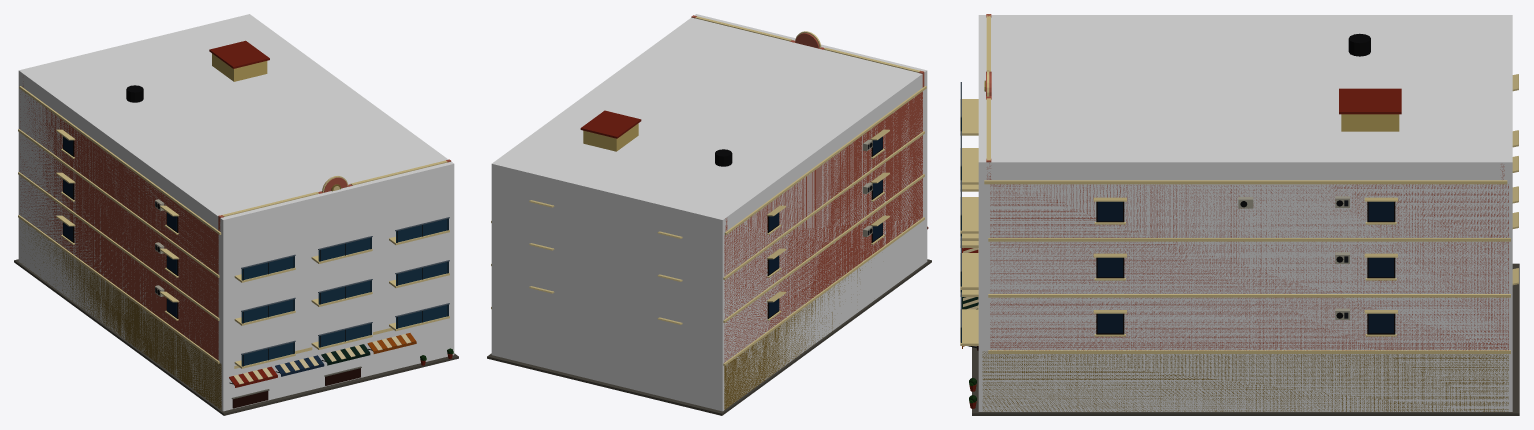
File: CHN_058_apt_with_shops.glb
3 views of the same model, side by side, from view 1: azimuth 30°, elevation 25°; view 2: azimuth 150°, elevation 25°; view 3: azimuth 270°, elevation 25° (orthographic). The views are drawn at different scales.
Parts seen in each view (by area): view 1: COL_Main, LOD0; view 2: COL_Main, LOD0; view 3: COL_Main, LOD0.
Part boxes in pixels (x1=…): COL_Main: x1=18, y1=14, x2=454, y2=411; LOD0: x1=14, y1=40, x2=458, y2=415; COL_Main: x1=491, y1=14, x2=927, y2=411; LOD0: x1=487, y1=15, x2=931, y2=415; COL_Main: x1=978, y1=15, x2=1512, y2=411; LOD0: x1=960, y1=14, x2=1519, y2=415.
Size of what is drawn, in the model's own units: 19.05 by 15.58 by 28.9.
